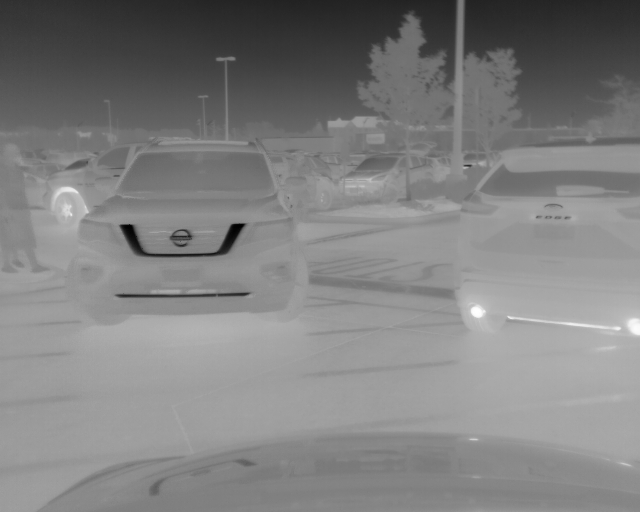car: (62, 138, 310, 327), (455, 138, 640, 338), (41, 140, 151, 232), (337, 148, 439, 199), (273, 149, 337, 214), (24, 161, 58, 208), (464, 152, 490, 169)
people: (1, 145, 48, 271)
